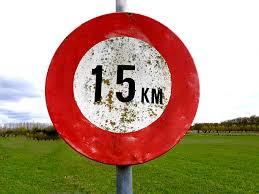sp15: (67, 36, 185, 140)
